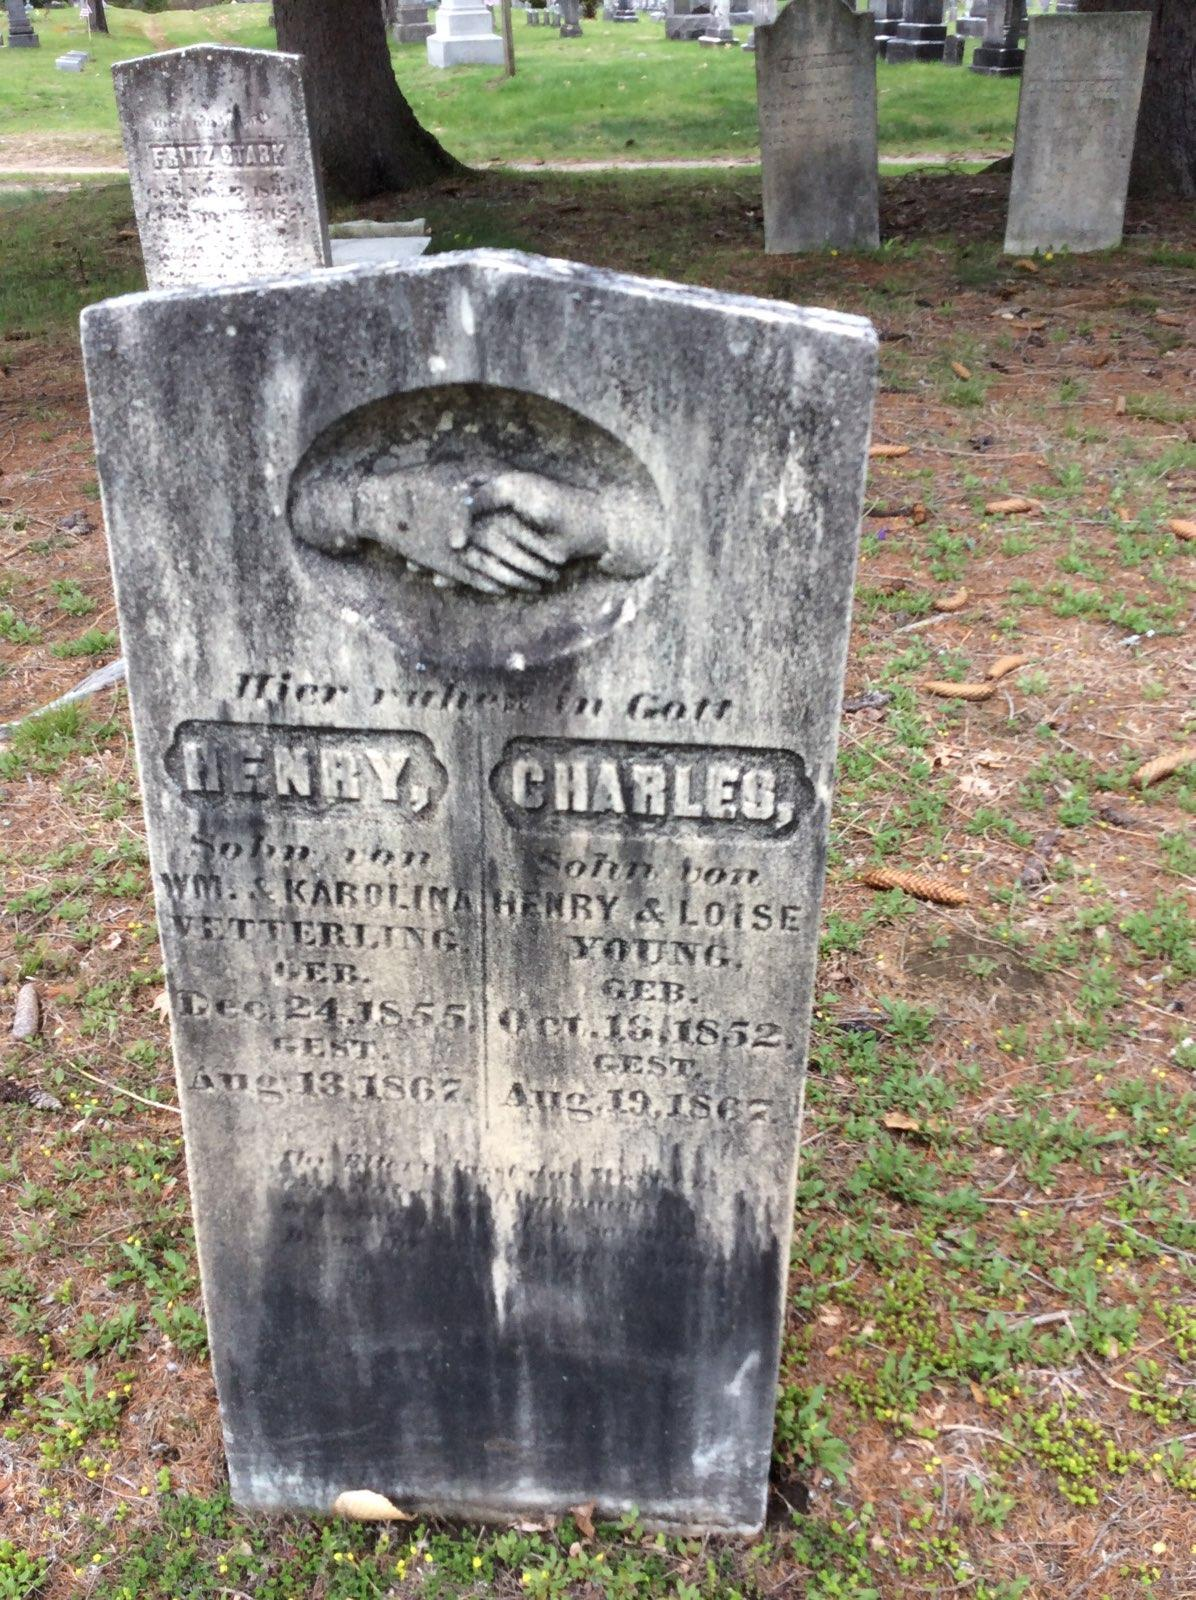upright: (83, 239, 878, 1545)
